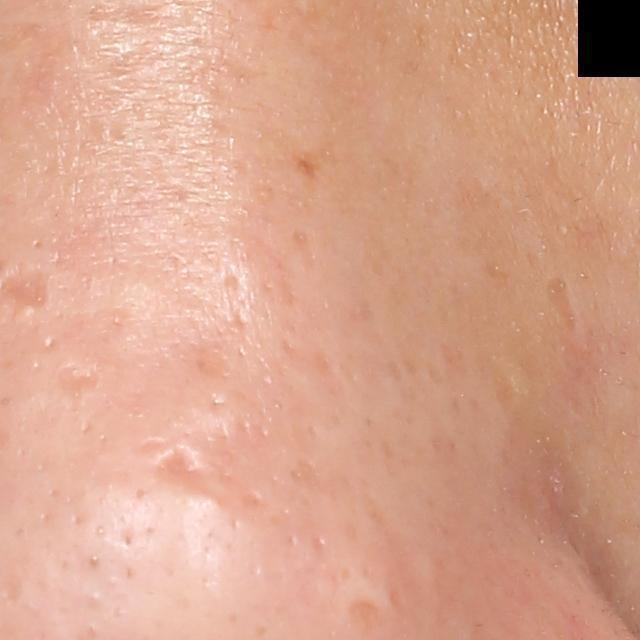atrophic_scar: (171, 331, 238, 382), (145, 444, 209, 494), (542, 271, 582, 335), (55, 360, 104, 397), (349, 601, 386, 634)
